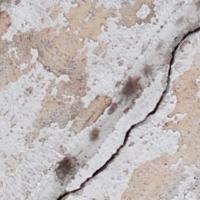crack: (60, 23, 199, 199)
